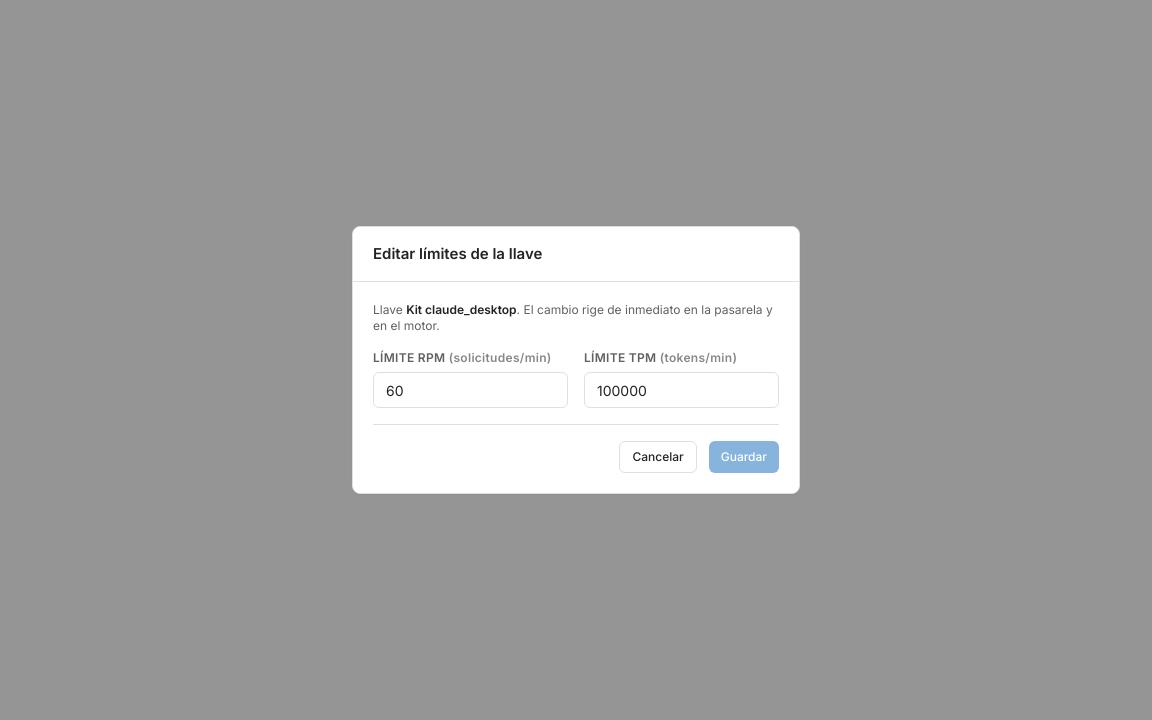
Scenario: KeyLimitsModal › un error del servidor se muestra y el modal sigue abierto
The width and height of the screenshot is (1152, 720).
Replace the text in the number field labelled "Límite RPM (solicitudes/min)" with "120" at {"x": 470, "y": 390}, box [373, 372, 568, 408]
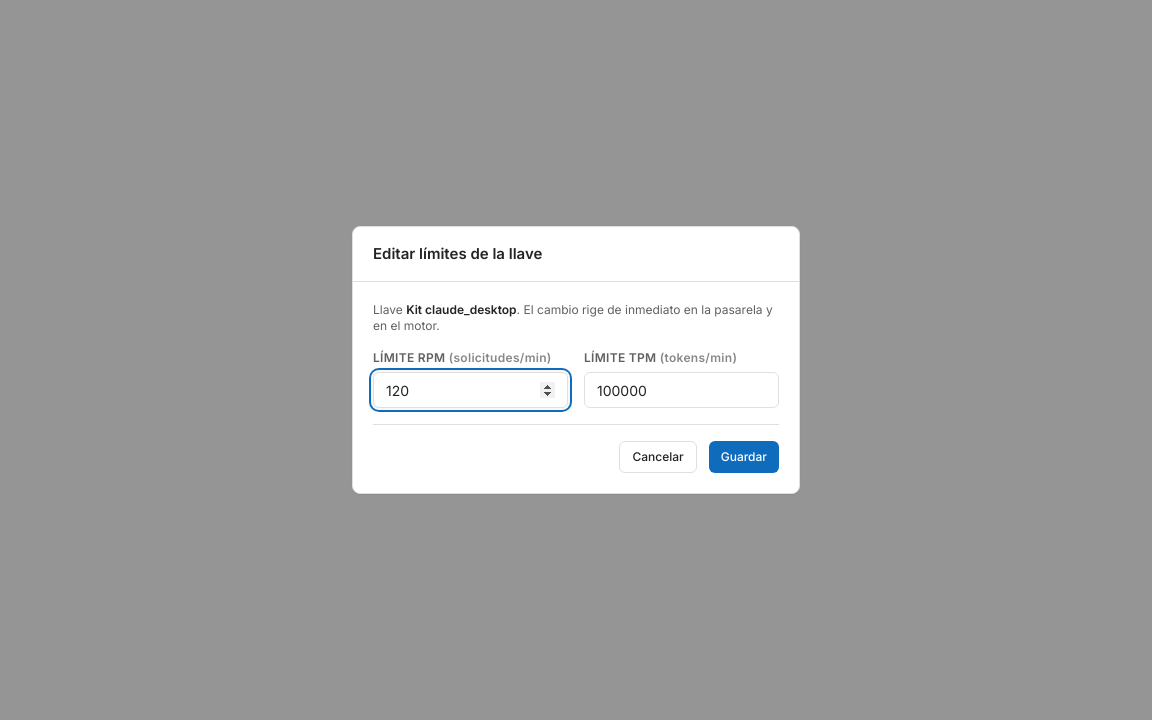
Click the button "Guardar" at {"x": 744, "y": 457}, box [709, 441, 779, 473]
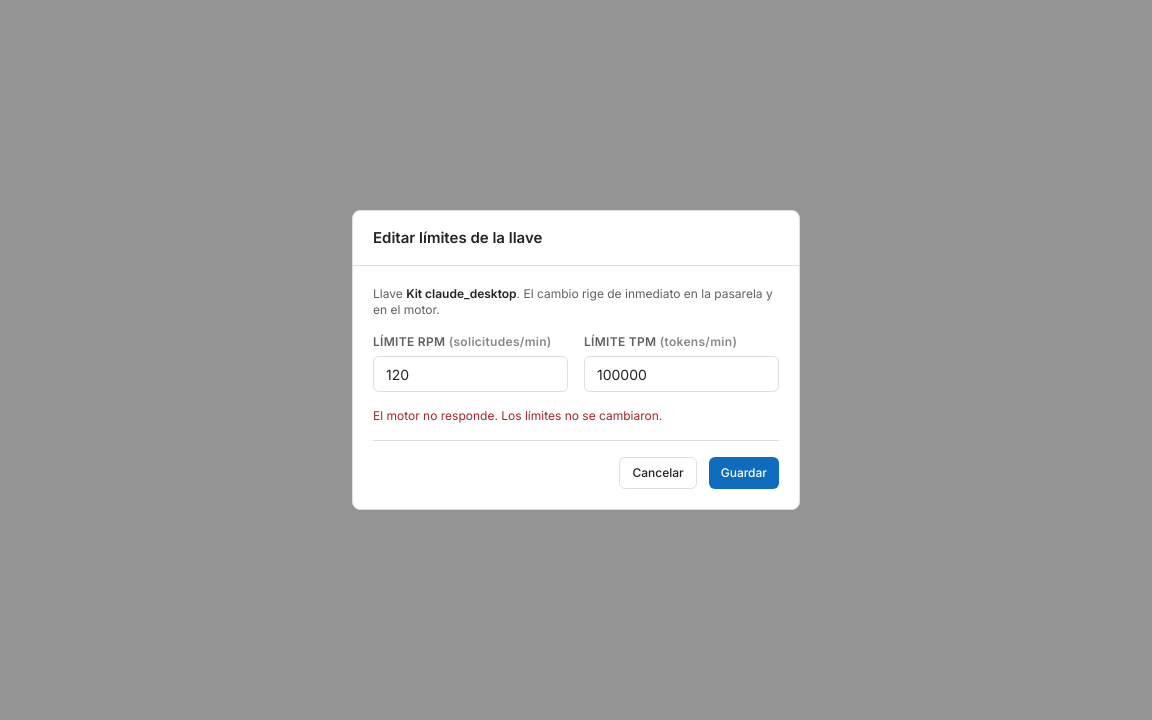
Expected: the text "El motor no responde. Los límites no se cambiaron." is shown, [373, 408, 662, 423]
